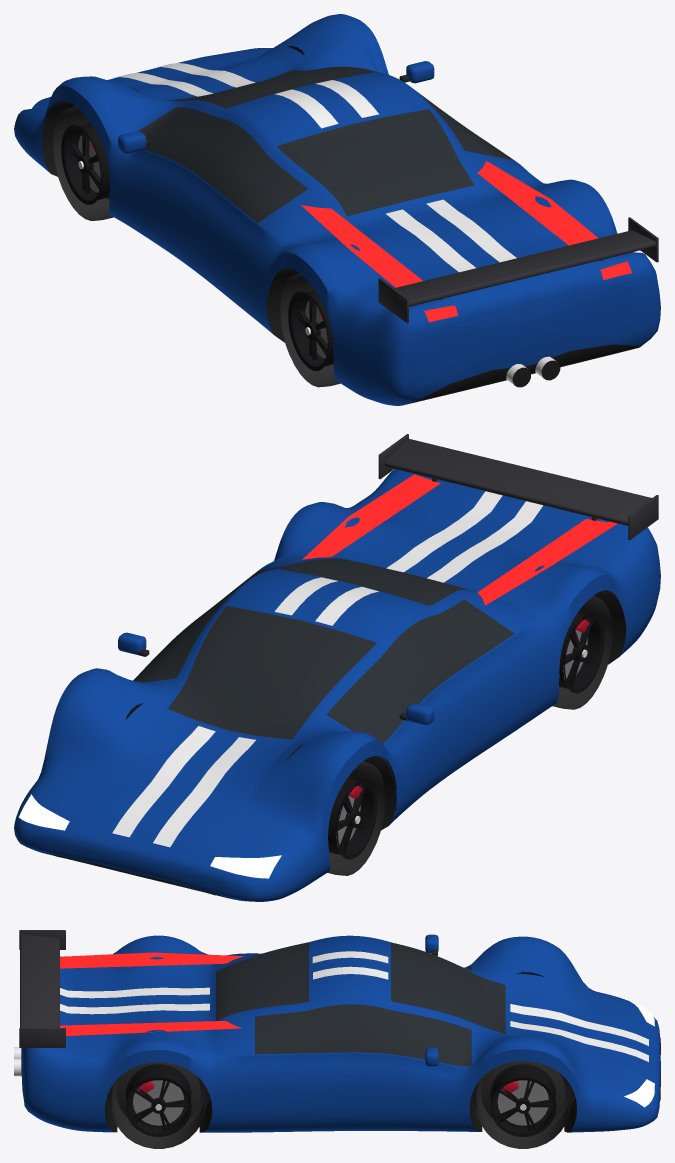
Rendered from ford_gt.glb.
3 views of the same model, one above another, from view 1: azimuth 30°, elevation 25°; view 2: azimuth 150°, elevation 25°; view 3: azimuth 270°, elevation 25° (orthographic). The views are drawn at different scales.
Parts seen in each view (by area): view 1: Body, Wheel_FL, Wheel_RL; view 2: Body, Wheel_FL, Wheel_RL; view 3: Body, Wheel_FR, Wheel_RR.
Boxes of the visible parts, left/top/right/bottom form: Body: left=14, top=14, right=660, bottom=405; Wheel_FL: left=53, top=106, right=113, bottom=220; Wheel_RL: left=280, top=273, right=340, bottom=387; Body: left=14, top=434, right=660, bottom=901; Wheel_FL: left=327, top=761, right=385, bottom=875; Wheel_RL: left=552, top=596, right=612, bottom=709; Body: left=14, top=930, right=660, bottom=1132; Wheel_FR: left=476, top=1061, right=570, bottom=1148; Wheel_RR: left=111, top=1062, right=205, bottom=1148.
Size of the model in its own units: 2.15 by 1.09 by 4.81.
